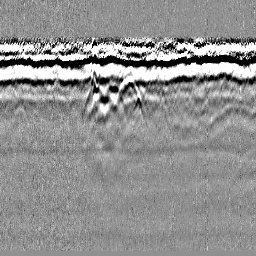cavity: (113, 74, 143, 112)
